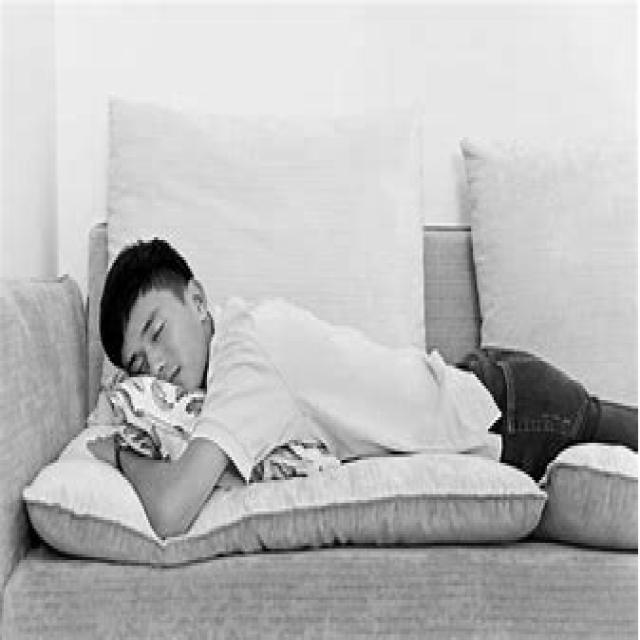lie: (99, 221, 640, 503)
